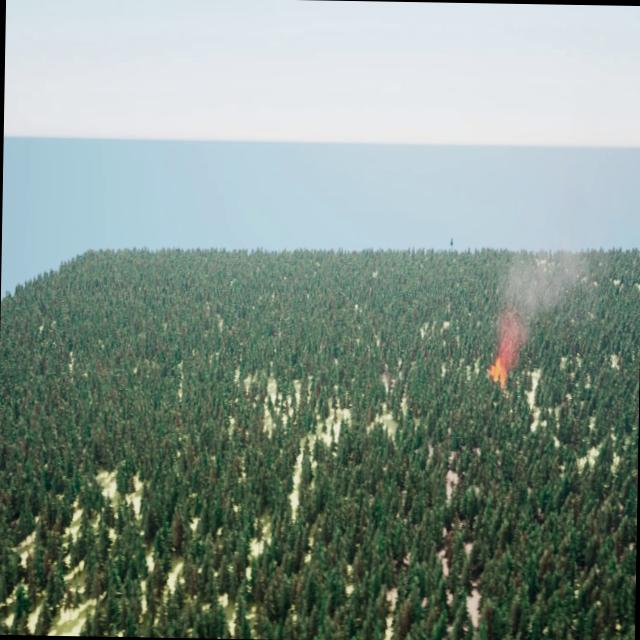fire: (486, 353, 509, 388)
smoke: (496, 230, 590, 360)
